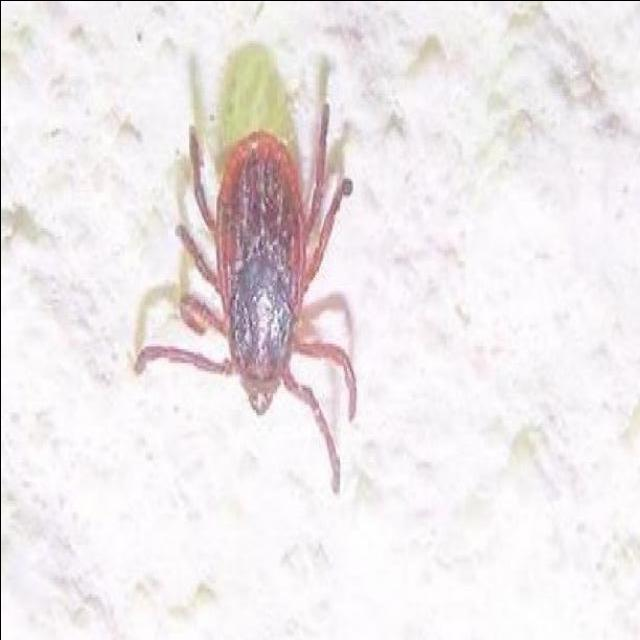Rhipicephalus Sanguineus-F: (132, 103, 354, 491)
